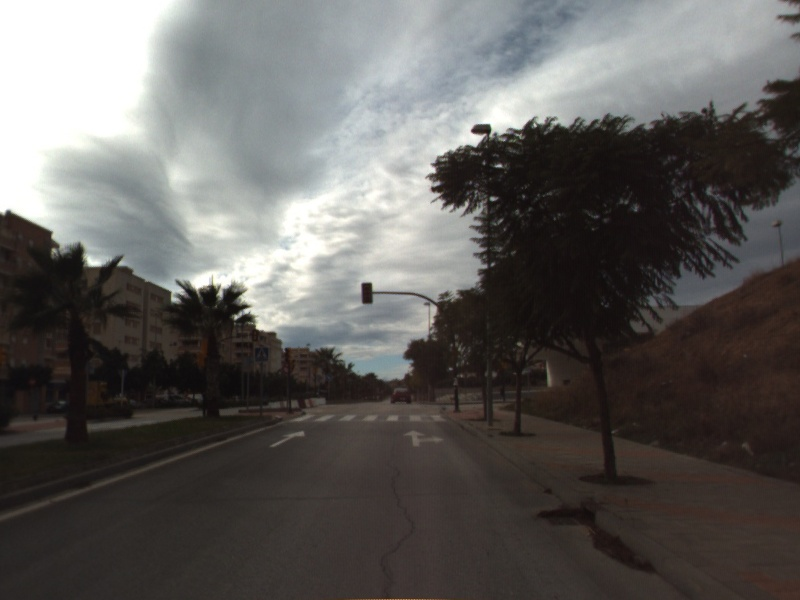STRAIGHT: (268, 429, 307, 449)
STRAIGHT_RIGHT: (401, 428, 445, 448)
